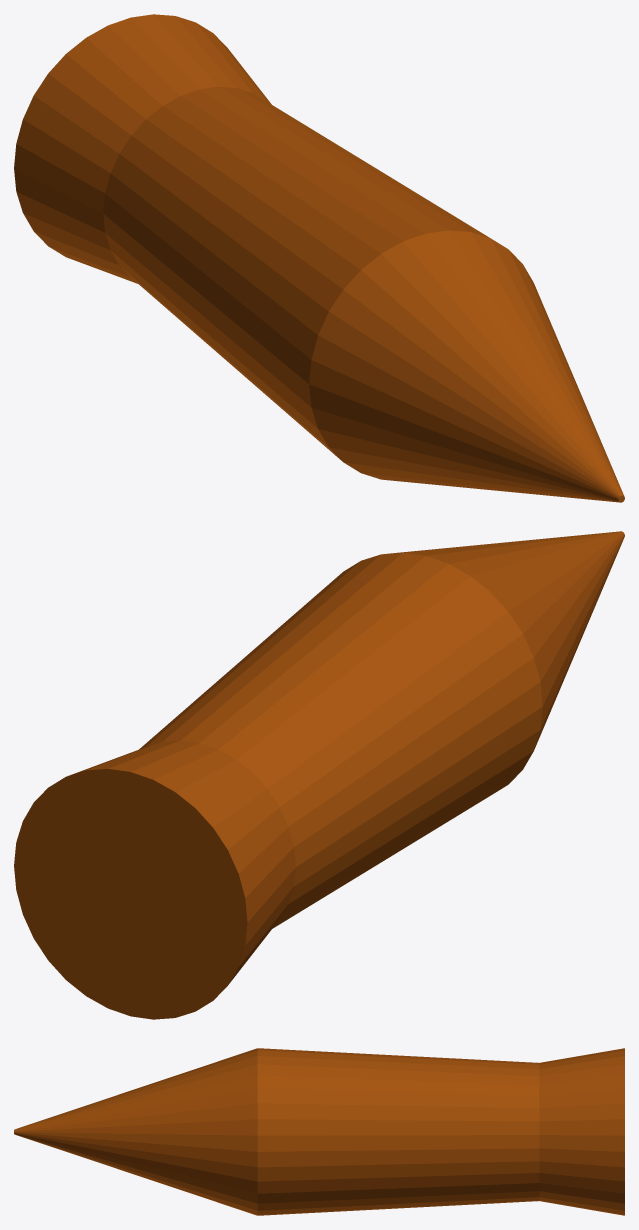
Rendered from missel_texture.obj.
3 views of the same model, one above another, from view 1: azimuth 30°, elevation 25°; view 2: azimuth 150°, elevation 25°; view 3: azimuth 270°, elevation 25° (orthographic). The views are drawn at different scales.
Visible parts, largest first — view 1: Cylinder.002_Cylinder.003; view 2: Cylinder.002_Cylinder.003; view 3: Cylinder.002_Cylinder.003.
Boxes of the visible parts, x1=… form: Cylinder.002_Cylinder.003: x1=14, y1=14, x2=624, y2=502; Cylinder.002_Cylinder.003: x1=14, y1=531, x2=624, y2=1019; Cylinder.002_Cylinder.003: x1=14, y1=1048, x2=624, y2=1215.
Bounding box in the file's own units: 0.1185 × 0.1185 × 0.4316.
